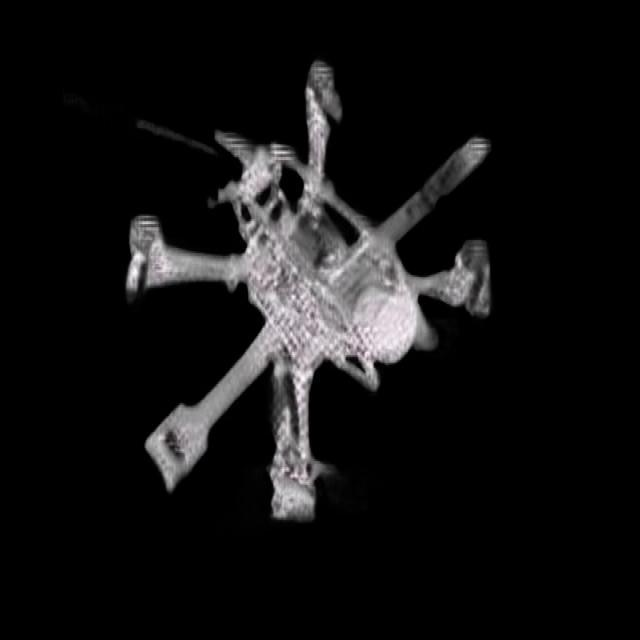drone: (119, 41, 507, 574)
